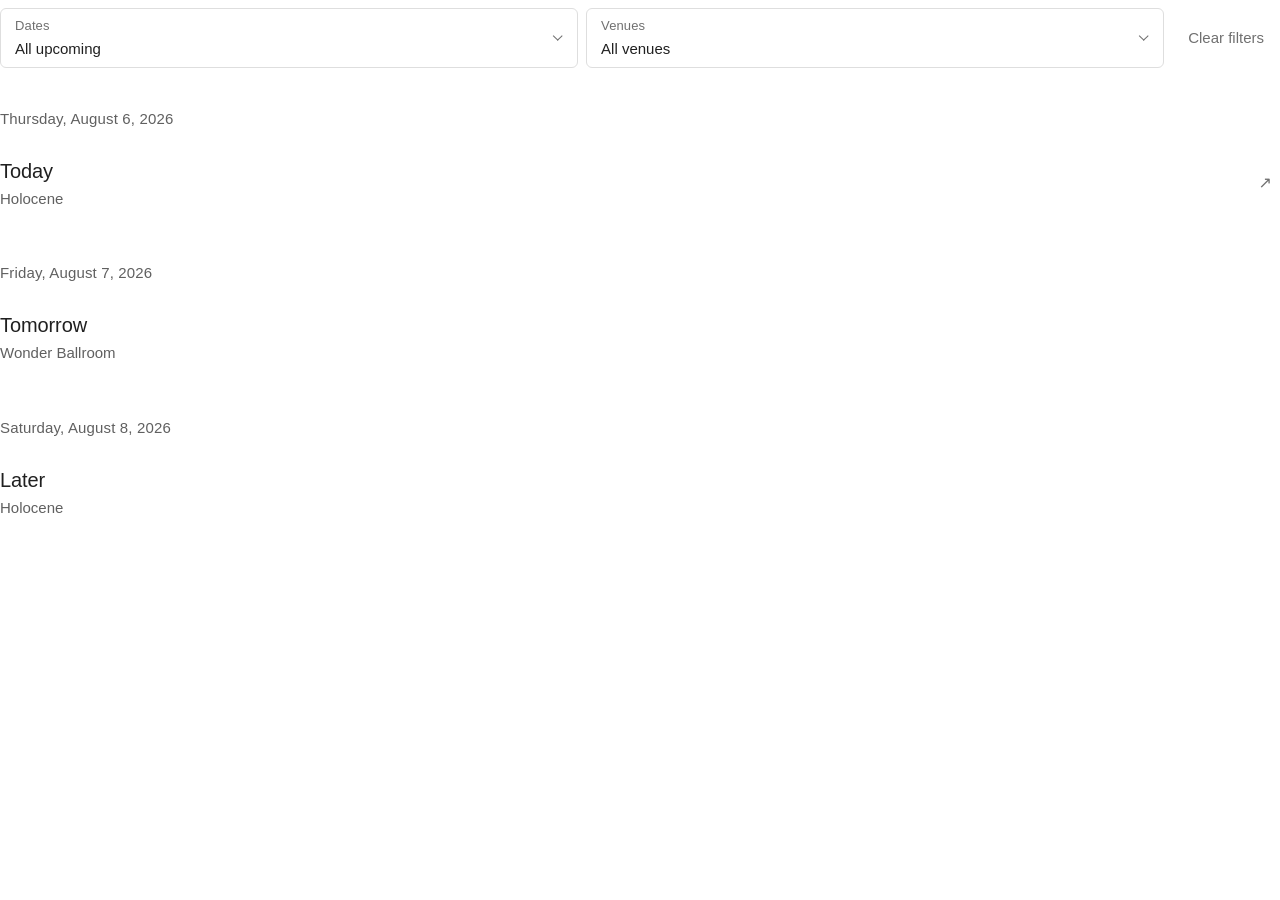
Test: EventExplorer › expires past date selections when Portland crosses midnight
Click the button with aria-label "Dates, All upcoming".
click(32, 26)  # box [0,8,578,68]
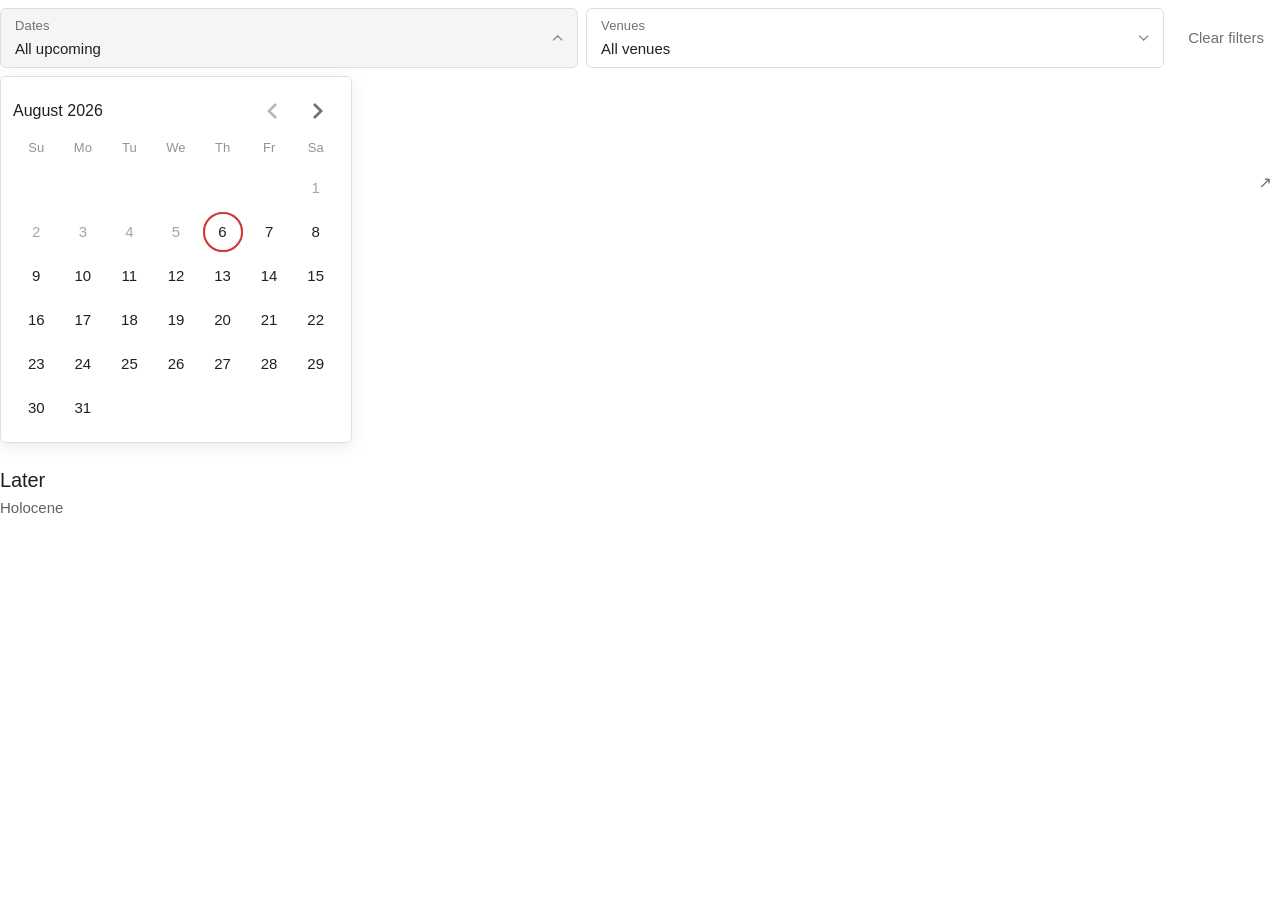
Click the button named "Thursday, August 6".
click(222, 232)  # box [202,212,242,252]
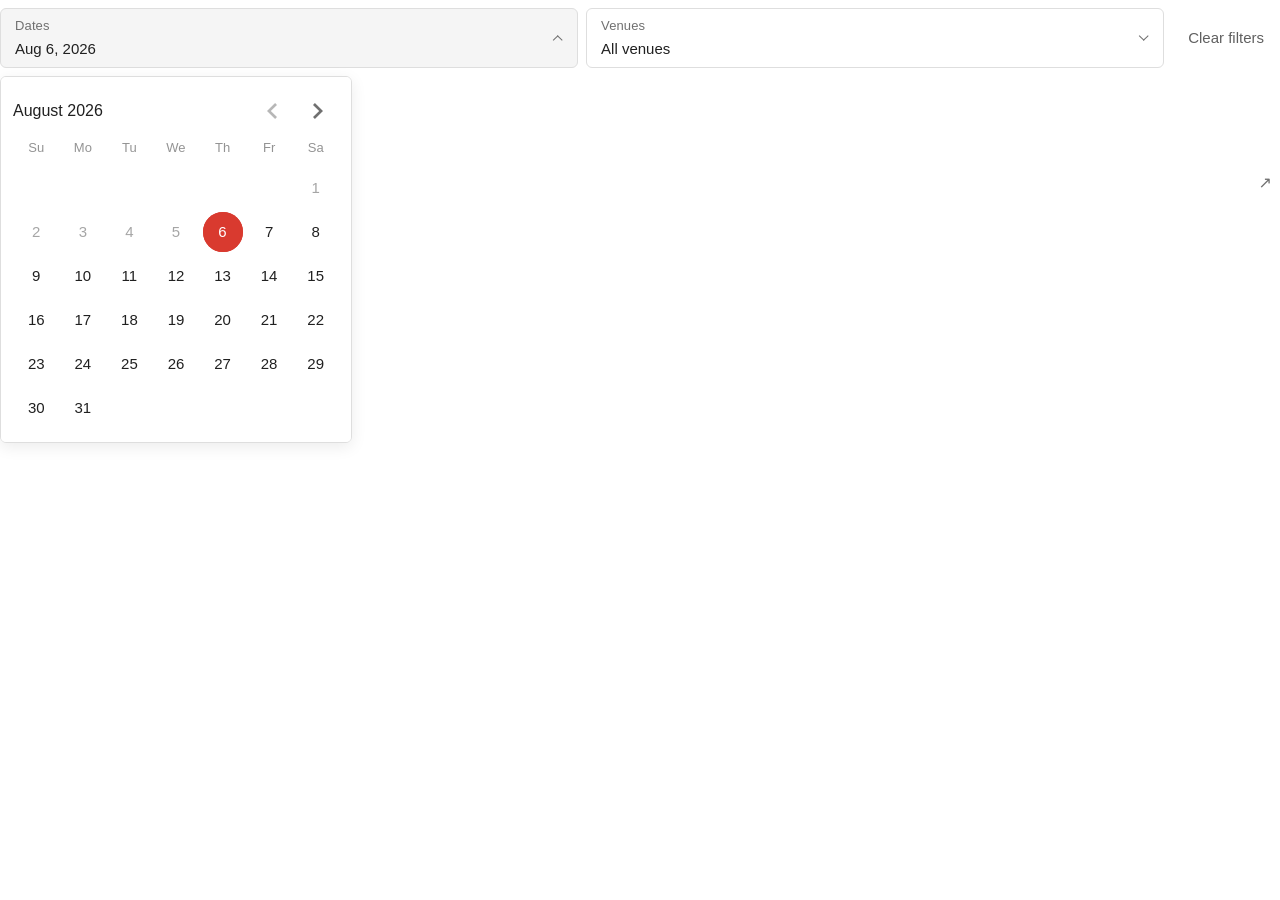
Click the button named "Thursday, August 6".
click(222, 232)  # box [202,212,242,252]
Wait 60000 ms
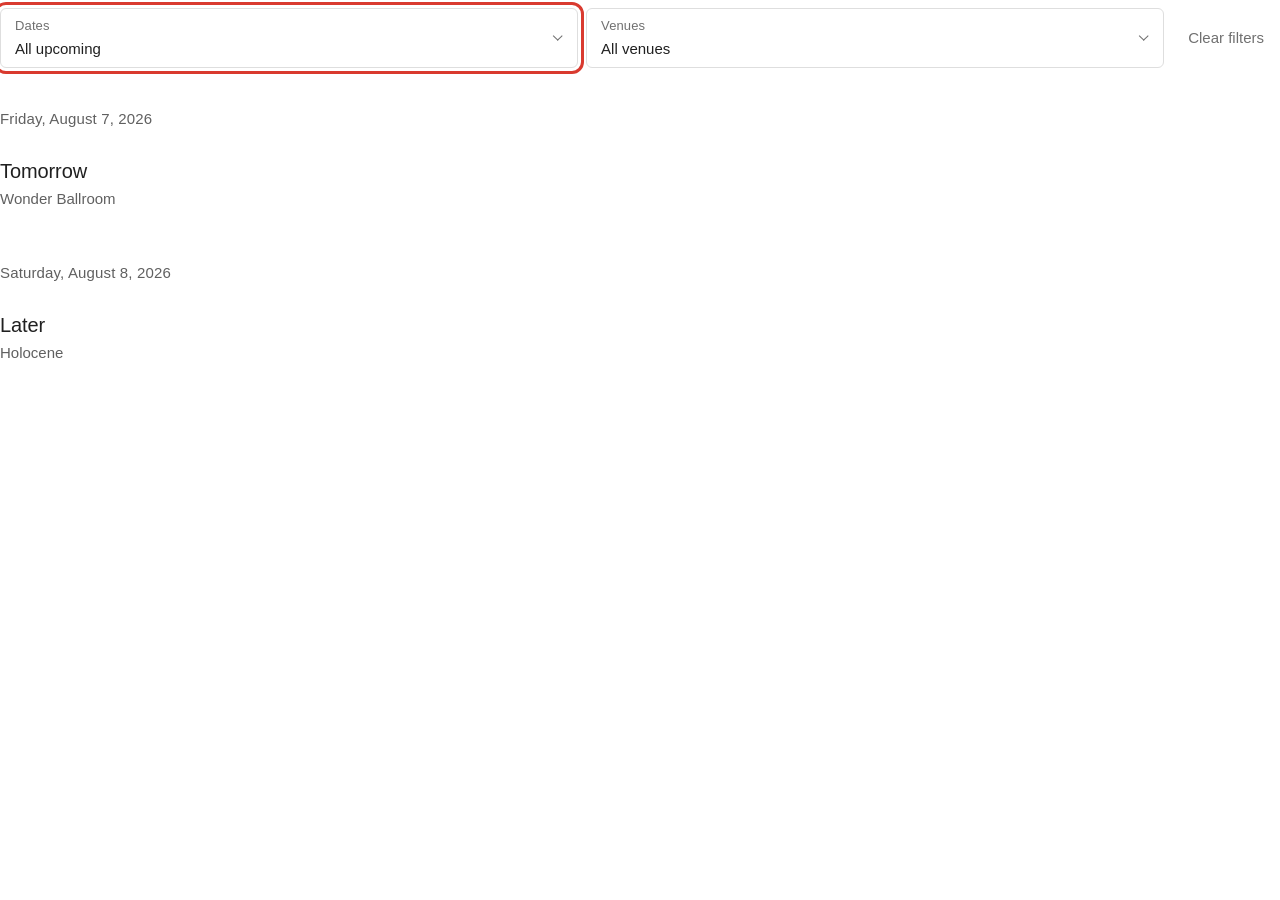
Check: the link "Today" is gone
Check: the text "Tomorrow" is shown, box [0,160,87,182]
Check: the button with aria-label "Dates, All upcoming" is shown, box [0,8,578,68]
